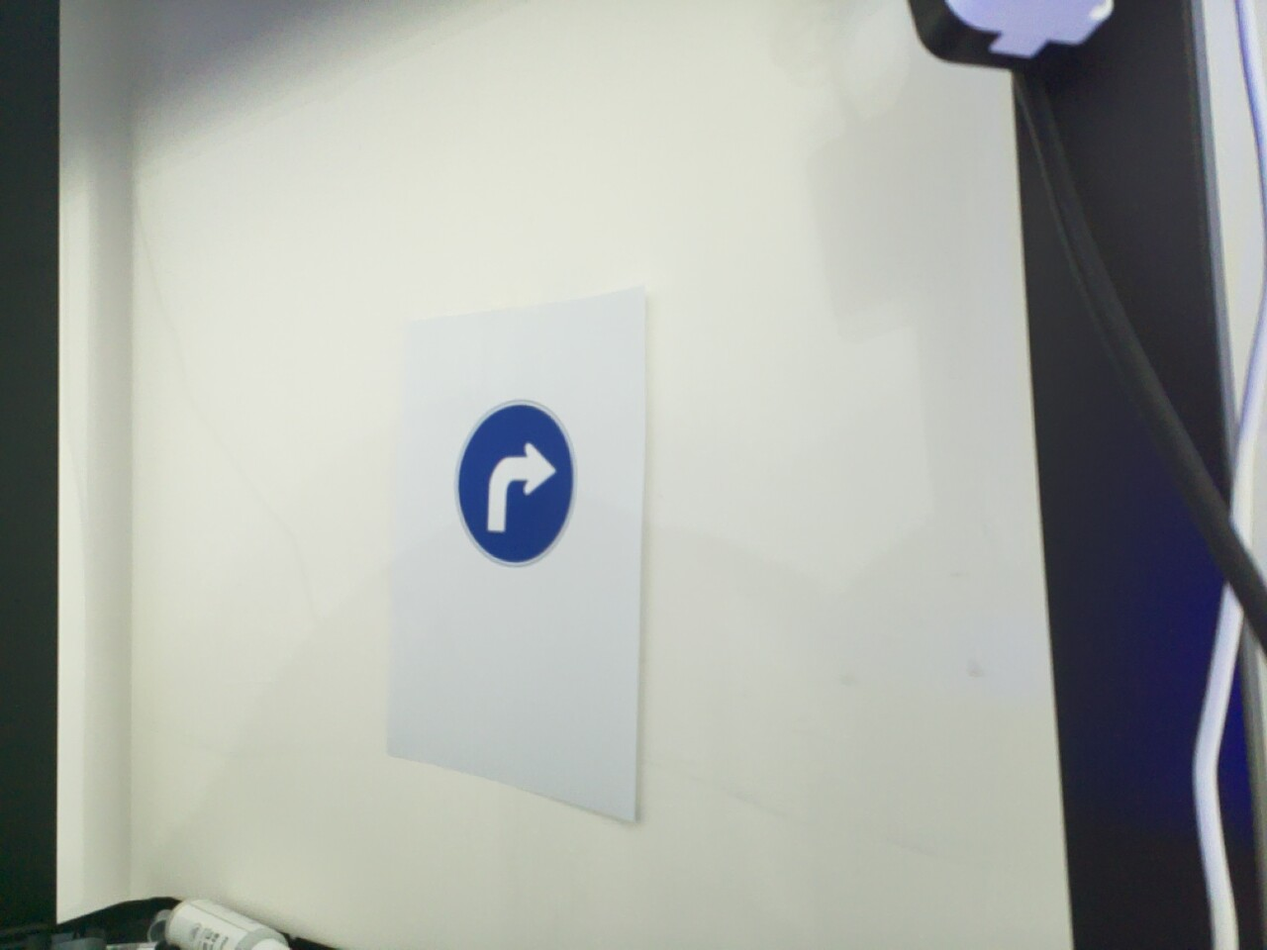right_turn: (452, 398, 579, 570)
